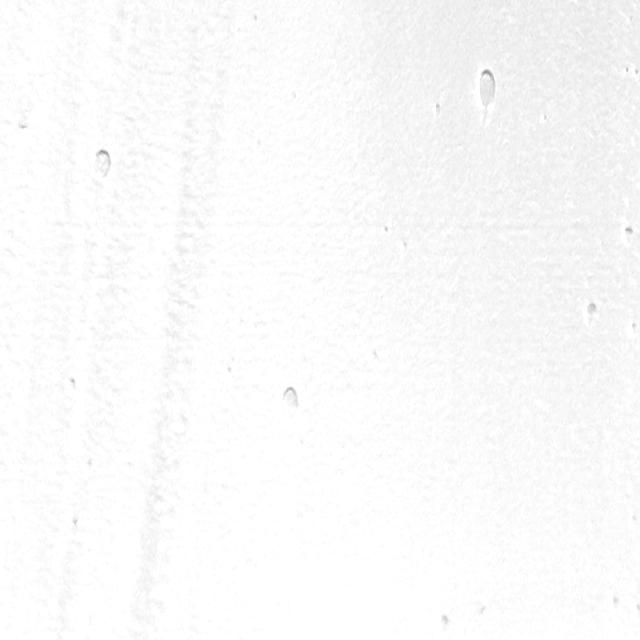pin holes: (472, 65, 500, 109), (276, 384, 304, 416), (87, 147, 112, 181), (582, 299, 602, 329), (468, 597, 491, 619), (618, 224, 637, 249), (59, 374, 80, 396), (433, 613, 452, 635), (605, 592, 622, 616), (623, 318, 639, 342), (619, 61, 637, 81), (627, 510, 640, 532), (66, 514, 79, 531), (431, 102, 443, 118), (380, 224, 393, 238), (631, 604, 640, 624), (223, 364, 235, 379), (398, 239, 410, 254)
